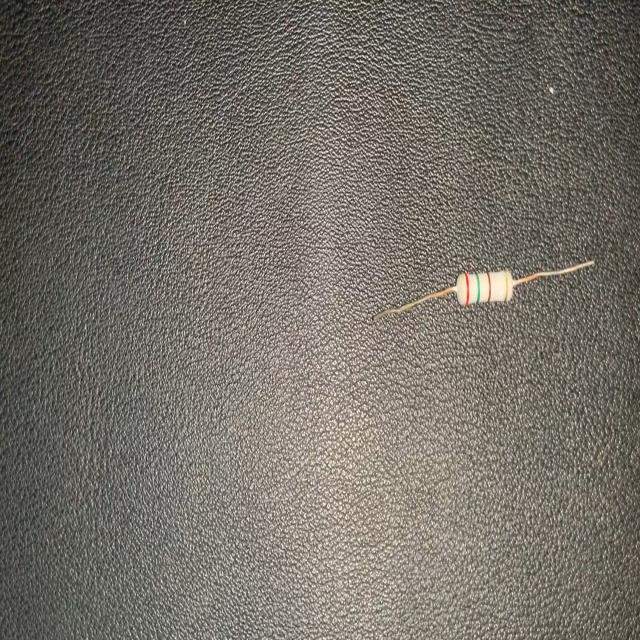resistor: (372, 249, 596, 337)
